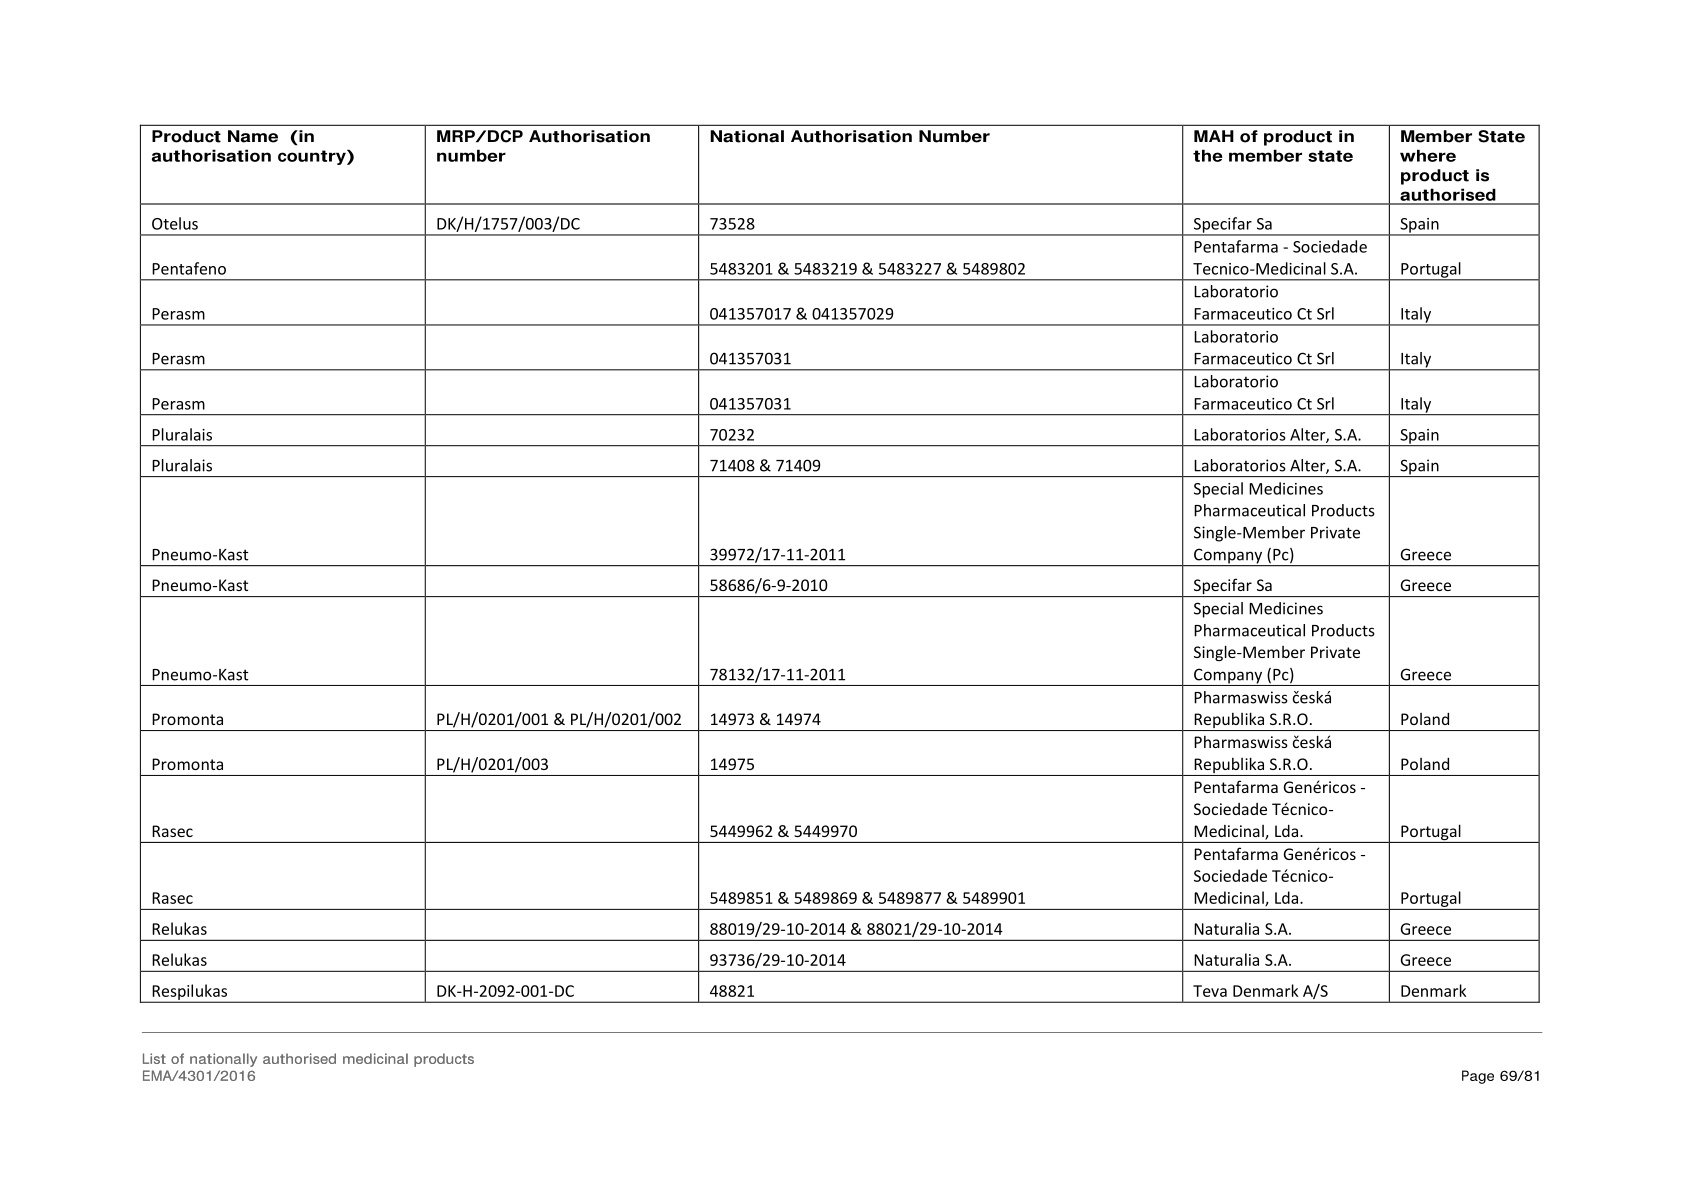full_lined: (139, 124, 1541, 1004)
